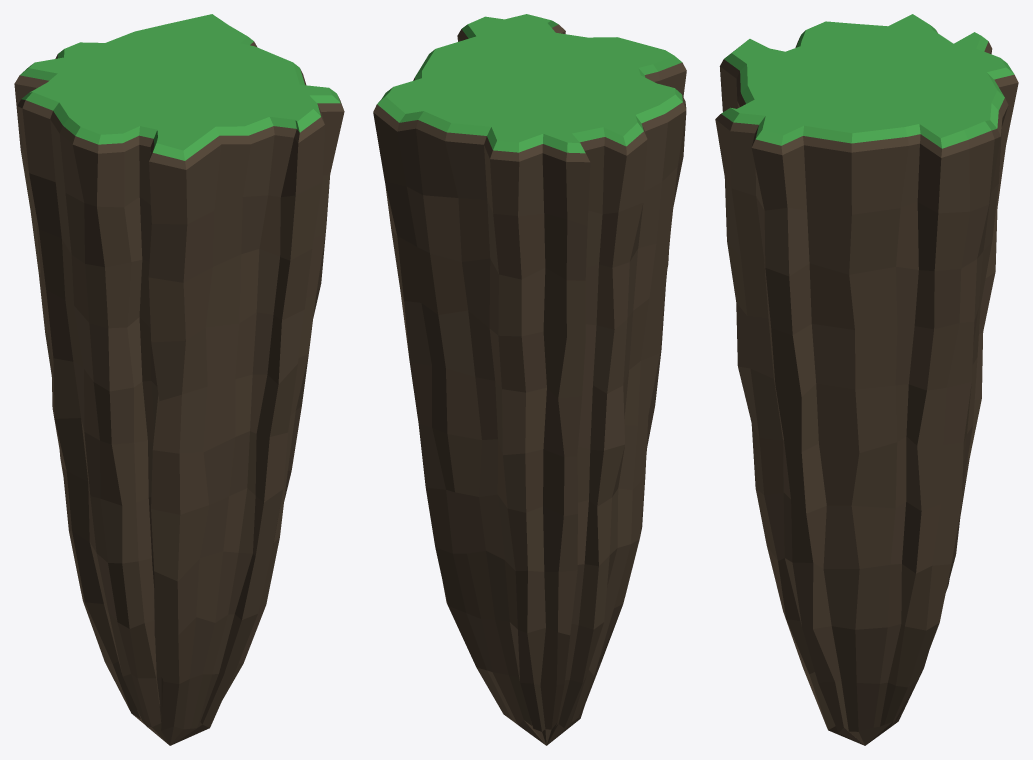
The model's file is Cliff1st.fbx.
The picture shows the model from 3 angles, left to right: view 1: azimuth 30°, elevation 25°; view 2: azimuth 150°, elevation 25°; view 3: azimuth 270°, elevation 25°; orthographic projection.
Visible parts, largest first — view 1: Cliff3; view 2: Cliff3; view 3: Cliff3.
Boxes of the visible parts, left/top/right/bottom form: Cliff3: left=14, top=14, right=344, bottom=745; Cliff3: left=373, top=14, right=686, bottom=745; Cliff3: left=715, top=14, right=1018, bottom=745.
Size of the model in its own units: 1873 by 4697 by 1911.
